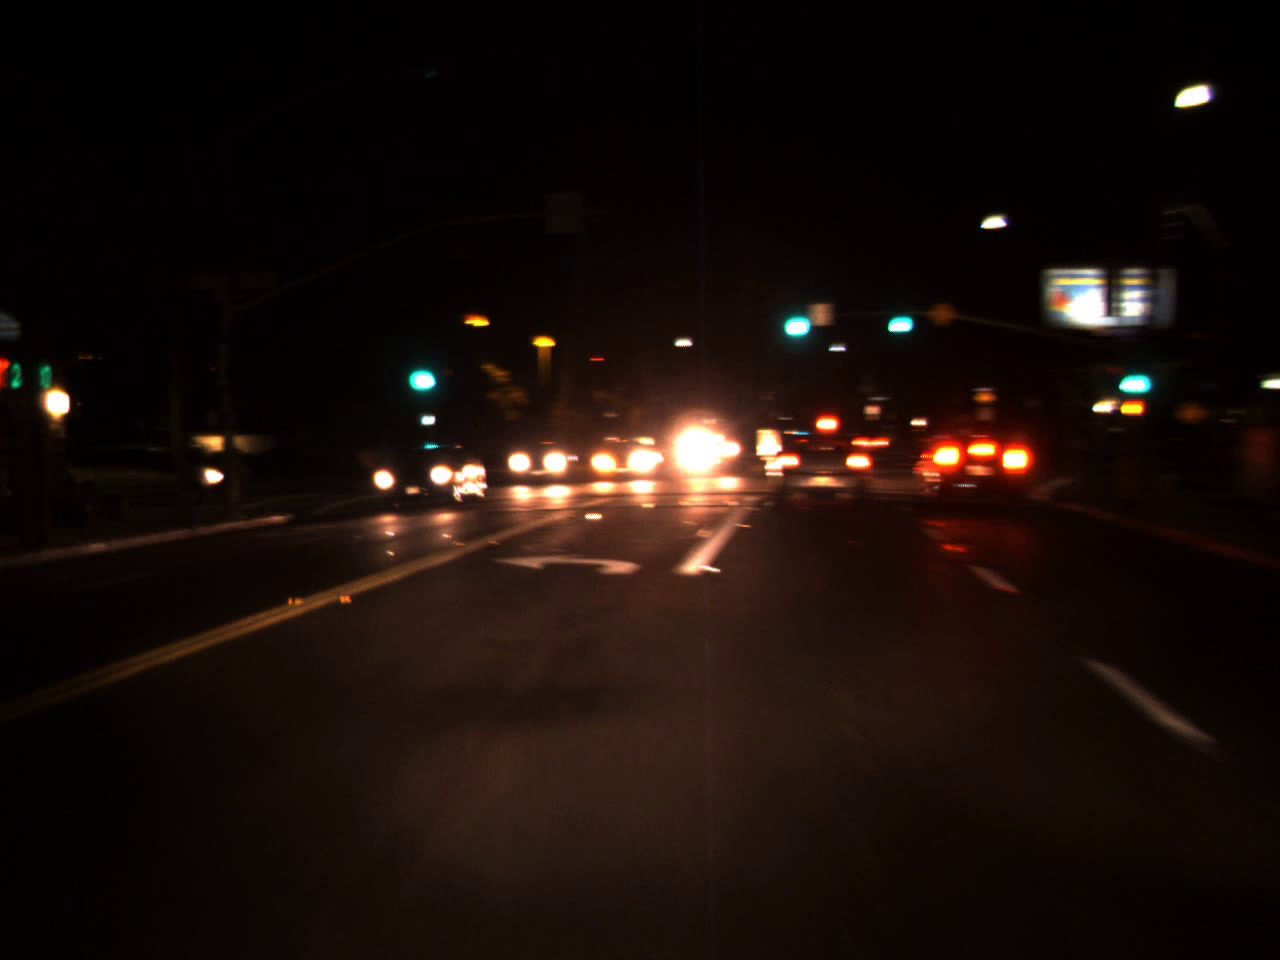go: (398, 342, 441, 399), (772, 291, 817, 345), (876, 298, 919, 337), (1110, 358, 1151, 397)
